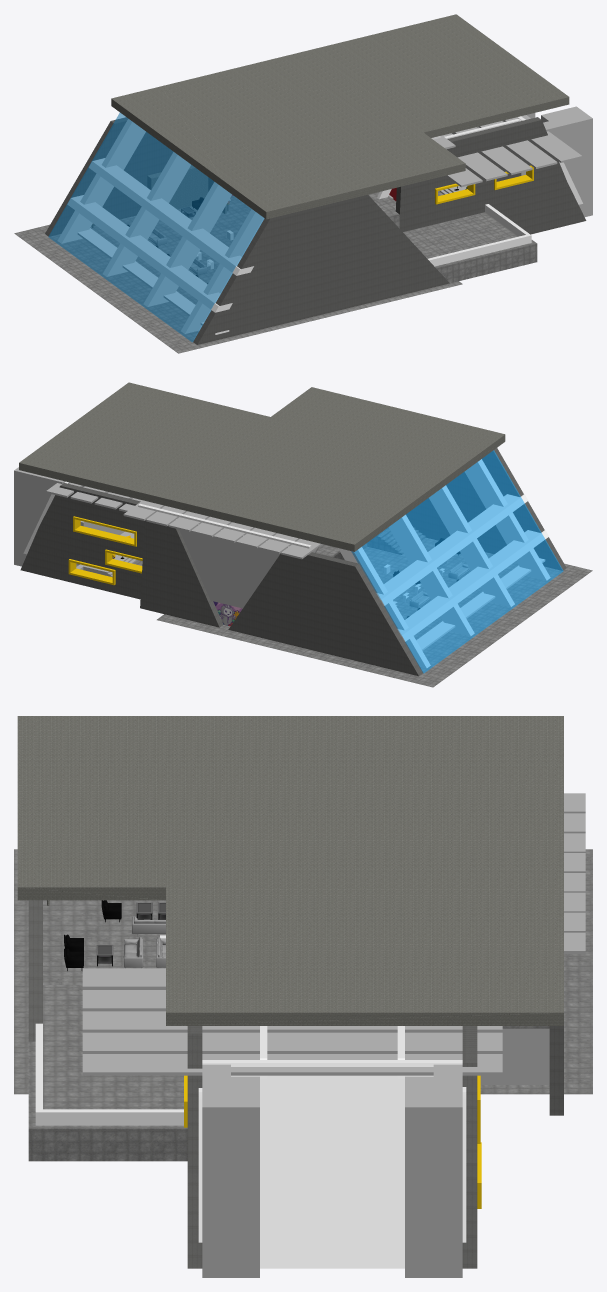
The picture shows the model from 3 angles, top to bottom: view 1: azimuth 30°, elevation 25°; view 2: azimuth 150°, elevation 25°; view 3: azimuth 270°, elevation 25°; orthographic projection. The views are drawn at different scales.
Visible parts, largest first — view 1: Cube_390, Window_414, Cube (19)_381, Plane_fixed_413, Cube (26)_383, Cube_387, Cube_380, Cube (24)_377, Cube (23)_374, Cube (29)_386, Cube (20)_344, Cube (27)_348 (+10 smaller); view 2: Cube_390, Window_414, Cube_380, Plane_fixed_413, Cube (28)_384, Cube (3)_382, Cube (19)_381, tempwindow_410, Cube (24)_377, Cube (23)_374, Cube_385, Cube (20)_344 (+18 smaller); view 3: Cube_390, Cube (32)_351, Cube_387, Plane_fixed_413, Cube_385, Cube (29)_386, Cube (36)_368, Cube (40)_369, Cube (37)_370, Cube_388, Cube (26)_383, Cube (28)_384 (+9 smaller).
Part boxes in pixels (x1=…): Cube_390: x1=111, y1=14, x2=569, y2=219; Window_414: x1=48, y1=113, x2=264, y2=342; Cube (19)_381: x1=193, y1=195, x2=449, y2=344; Plane_fixed_413: x1=14, y1=196, x2=462, y2=353; Cube (26)_383: x1=395, y1=117, x2=586, y2=234; Cube_387: x1=403, y1=212, x2=537, y2=283; Cube_380: x1=45, y1=117, x2=173, y2=236; Cube (24)_377: x1=89, y1=158, x2=253, y2=275; Cube (23)_374: x1=67, y1=195, x2=232, y2=312; Cube (29)_386: x1=541, y1=106, x2=592, y2=216; Cube (20)_344: x1=144, y1=182, x2=231, y2=306; Cube (27)_348: x1=103, y1=152, x2=190, y2=276; Cube_390: x1=19, y1=382, x2=505, y2=551; Window_414: x1=351, y1=450, x2=563, y2=673; Cube_380: x1=228, y1=552, x2=422, y2=676; Plane_fixed_413: x1=157, y1=538, x2=592, y2=687; Cube (28)_384: x1=20, y1=483, x2=144, y2=599; Cube (3)_382: x1=140, y1=520, x2=223, y2=627; Cube (19)_381: x1=406, y1=448, x2=566, y2=570; tempwindow_410: x1=175, y1=519, x2=288, y2=608; Cube (24)_377: x1=376, y1=494, x2=528, y2=605; Cube (23)_374: x1=397, y1=530, x2=548, y2=641; Cube_385: x1=14, y1=467, x2=65, y2=566; Cube (20)_344: x1=429, y1=485, x2=514, y2=606; Cube_390: x1=17, y1=716, x2=563, y2=1025; Cube (32)_351: x1=202, y1=1060, x2=462, y2=1268; Cube_387: x1=28, y1=988, x2=187, y2=1161; Plane_fixed_413: x1=14, y1=849, x2=592, y2=1094; Cube_385: x1=405, y1=1064, x2=462, y2=1277; Cube (29)_386: x1=202, y1=1064, x2=259, y2=1277; Cube (36)_368: x1=82, y1=1032, x2=502, y2=1053; Cube (40)_369: x1=82, y1=1054, x2=502, y2=1075; Cube (37)_370: x1=82, y1=1011, x2=502, y2=1032; Cube_388: x1=35, y1=1023, x2=183, y2=1125; Cube (26)_383: x1=187, y1=1026, x2=202, y2=1268; Cube (28)_384: x1=462, y1=1026, x2=477, y2=1268.
Size of what is drawn, in the model's own units: 65.75 by 18 by 40.
Materials: 31 (17 with a texture image).
